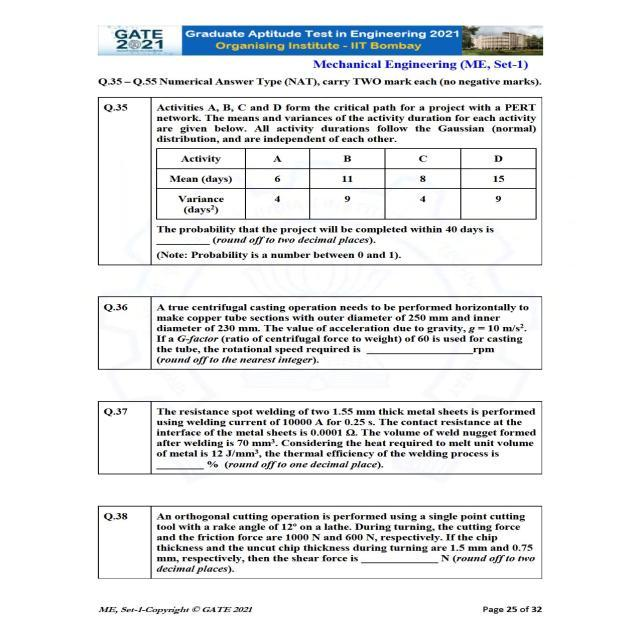Question_Answer_Block: (70, 75, 574, 273), (70, 287, 574, 382), (70, 393, 574, 488), (70, 500, 574, 594)
Question_Block: (70, 75, 574, 273), (70, 287, 574, 382), (70, 393, 574, 488), (70, 500, 574, 594)
Question_Paper_Area: (70, 75, 574, 594)
